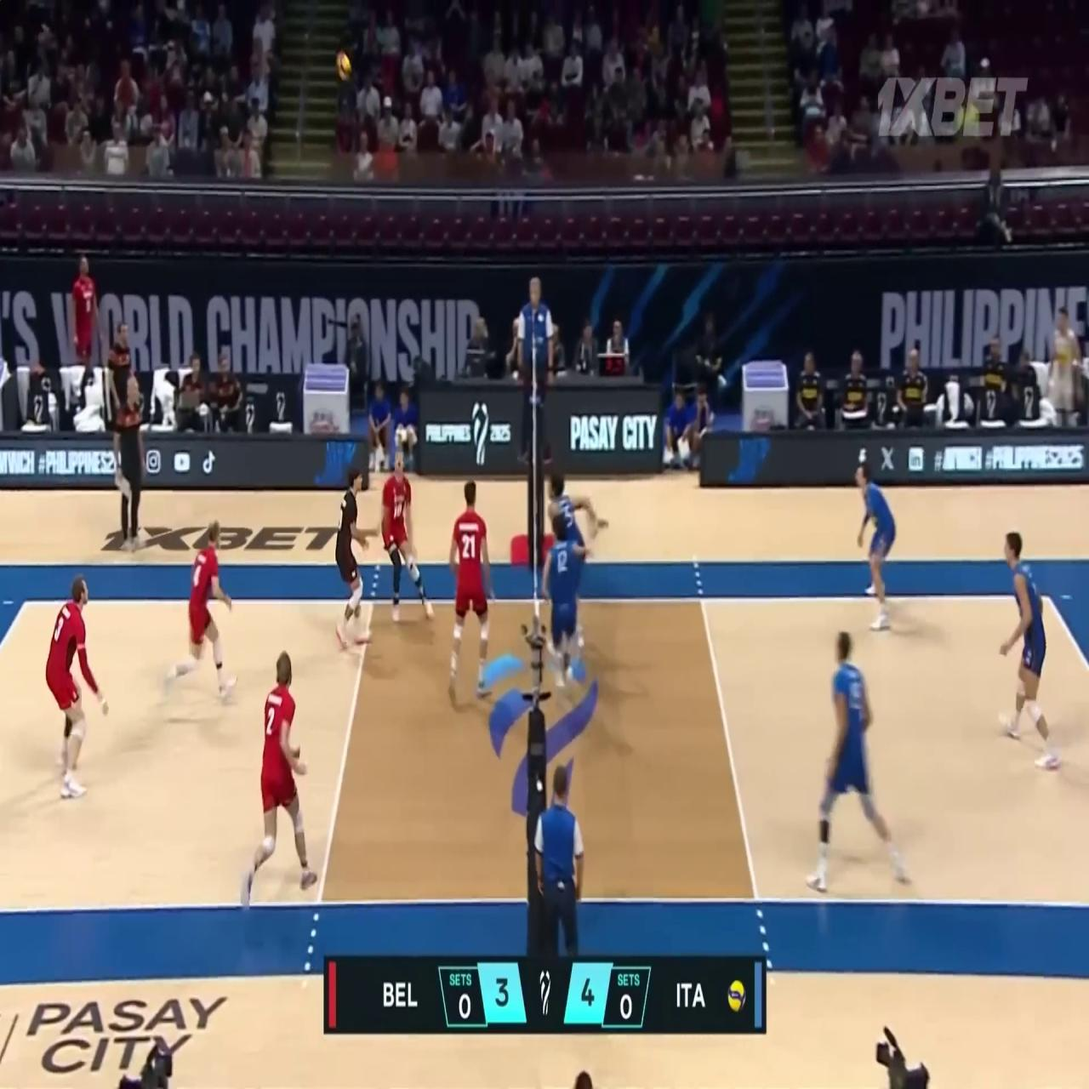ball: (336, 51, 351, 81)
